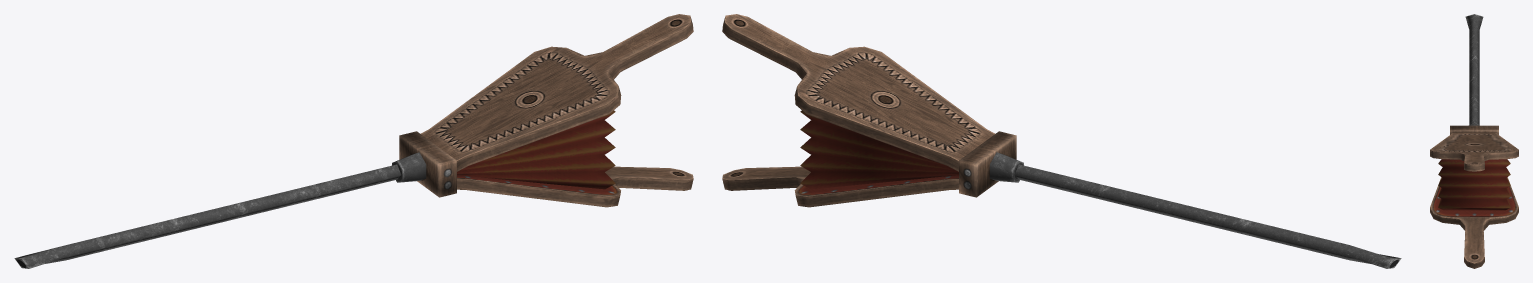
The model's file is LOD1_blower.fbx.
3 views of the same model, side by side, from view 1: azimuth 30°, elevation 25°; view 2: azimuth 150°, elevation 25°; view 3: azimuth 270°, elevation 25° (orthographic). The views are drawn at different scales.
Visible parts, largest first — view 1: LOD1_blower; view 2: LOD1_blower; view 3: LOD1_blower.
Boxes of the visible parts, <box> form: LOD1_blower: <box>14,14,693,268</box>; LOD1_blower: <box>722,14,1401,268</box>; LOD1_blower: <box>1430,14,1518,268</box>.
Size of the model in its own units: 1.15 by 0.2775 by 0.2149.
